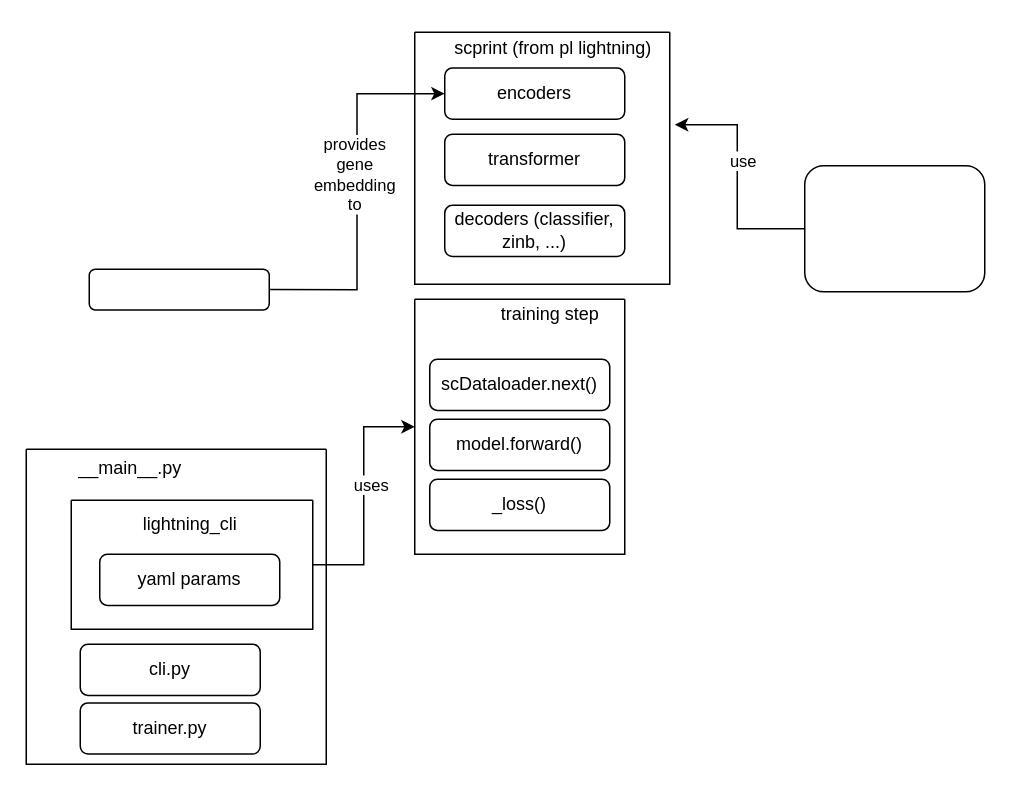
This 1011x791 diagram has some shape labels left out. The centre of each missing label's shape, as x and y in pixels:
embedder: pixel 178 289
tasks: - embedding & class - GRN prediction - denoising of expr: pixel 894 228
